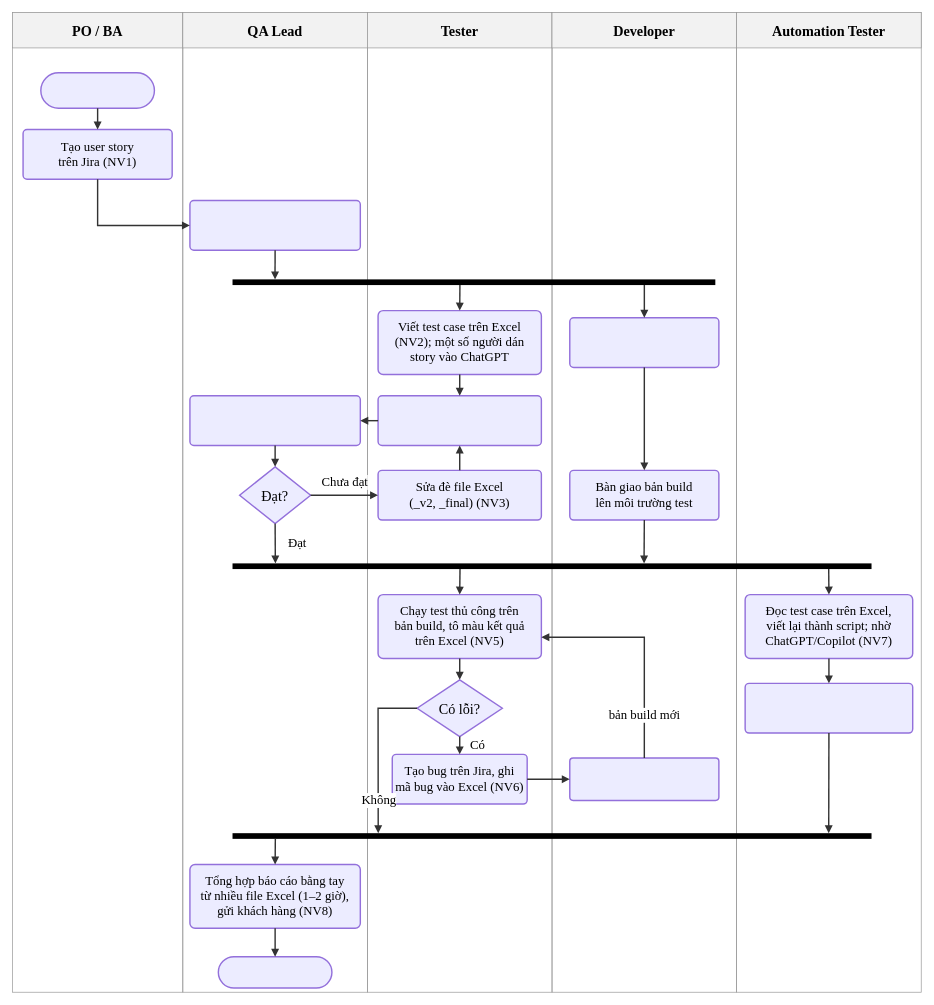
This 934x1005 diagram has some shape labels left out. Each missing label, with the centre of its shape:
Bắt đầu sprint: the point at 97,90
Chạy script (cuối sprint); Fail thì báo lỗi: the point at 828,707
Gửi file Excel cho QA Lead qua chat/email: the point at 459,420
Kết thúc sprint: the point at 274,972
Lập kế hoạch sprint, chọn story, phân công (NV9): the point at 275,225
Lập trình chức năng: the point at 644,342
Sửa lỗi: the point at 644,779
Xem file, nhận xét qua chat (không lưu vết) (NV4): the point at 275,420
